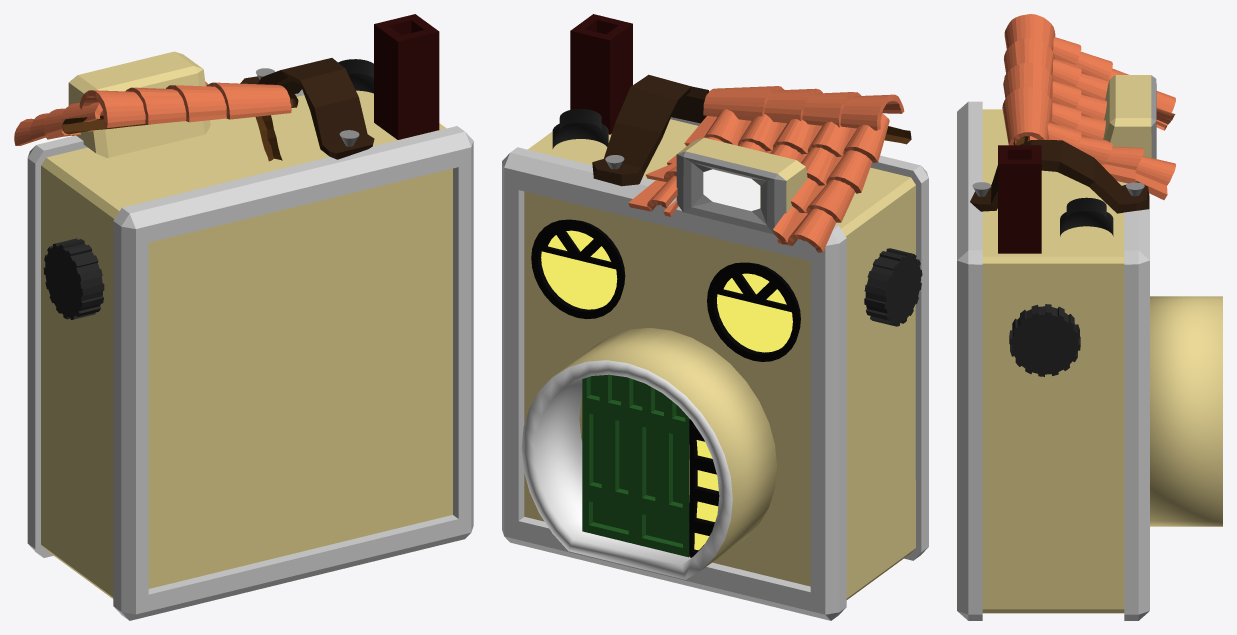
File: casinha.glb
3 renders of one model, left to right at view 1: azimuth 30°, elevation 25°; view 2: azimuth 150°, elevation 25°; view 3: azimuth 270°, elevation 25°, orthographic. The views are drawn at different scales.
Parts seen in each view (by area): view 1: Camera.001, Telhado, Chaminé, Flash, Tira, Os trem da camera, Botão, Suporte do telhado 2, Suporte do telhado; view 2: Camera.001, Moldura, Telhado, Porta, Circle, Flash, Tira, Chaminé, Os trem da camera, janelas da porta, Botão; view 3: Camera.001, Moldura, Telhado, Chaminé, Os trem da camera, Tira, Flash, Botão.
Boxes of the visible parts, x1,y1,x2,y2 form: Camera.001: [27, 89, 473, 620]; Telhado: [14, 81, 291, 145]; Chaminé: [374, 14, 439, 139]; Flash: [68, 51, 210, 157]; Tira: [240, 58, 374, 159]; Os trem da camera: [43, 238, 104, 319]; Botão: [338, 59, 373, 93]; Suporte do telhado 2: [62, 93, 298, 134]; Suporte do telhado: [255, 115, 282, 161]; Camera.001: [502, 117, 928, 620]; Moldura: [521, 327, 776, 579]; Telhado: [628, 86, 904, 252]; Porta: [582, 374, 689, 557]; Circle: [531, 219, 800, 361]; Flash: [676, 137, 807, 234]; Tira: [592, 74, 708, 186]; Chaminé: [570, 14, 632, 134]; Os trem da camera: [864, 248, 922, 326]; janelas da porta: [689, 419, 719, 557]; Botão: [552, 109, 608, 148]; Camera.001: [957, 101, 1149, 620]; Moldura: [1150, 296, 1222, 526]; Telhado: [1002, 14, 1175, 199]; Chaminé: [998, 145, 1041, 253]; Os trem da camera: [1009, 304, 1080, 376]; Tira: [970, 140, 1149, 213]; Flash: [1103, 75, 1156, 158]; Botão: [1060, 197, 1113, 236].
Size of the model in its own units: 4.95 by 6.22 by 3.27.
